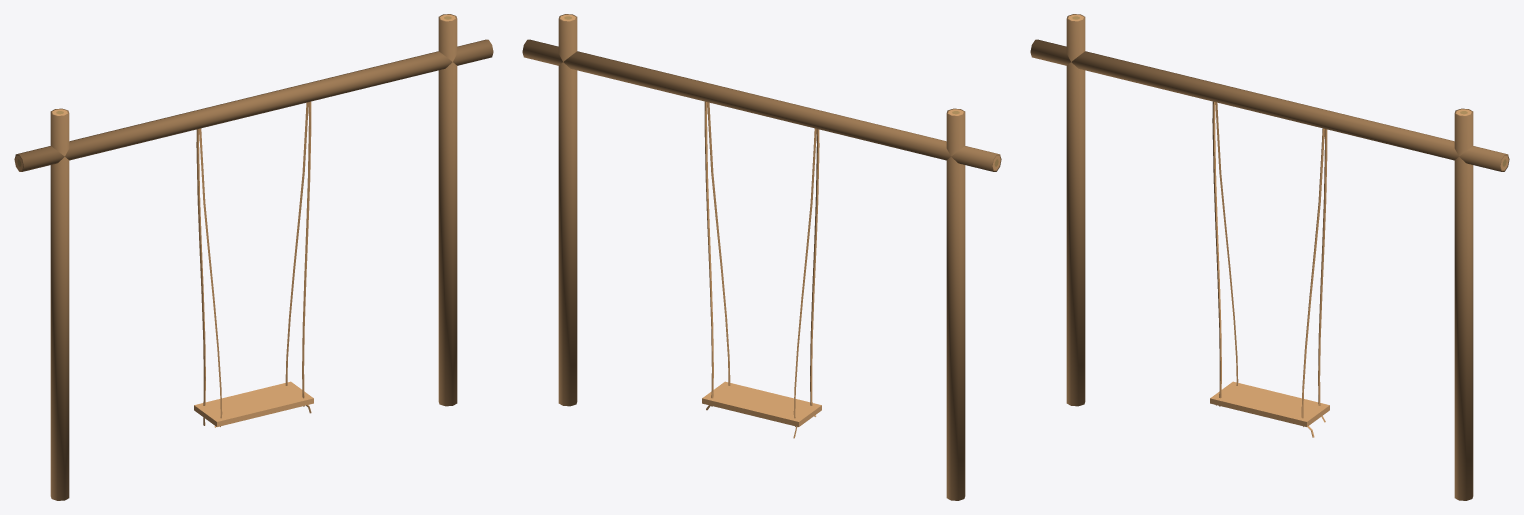
File: wooden_swing.gltf
3 views of the same model, side by side, from view 1: azimuth 30°, elevation 25°; view 2: azimuth 150°, elevation 25°; view 3: azimuth 330°, elevation 25° (orthographic).
Parts seen in each view (by area): view 1: wooden_swim; view 2: wooden_swim; view 3: wooden_swim.
Boxes of the visible parts, x1,y1,x2,y2 form: wooden_swim: (14,14,493,500); wooden_swim: (522,14,1001,500); wooden_swim: (1030,14,1509,500).
Bounding box in the file's own units: 4.09 × 3.2 × 0.3463.
